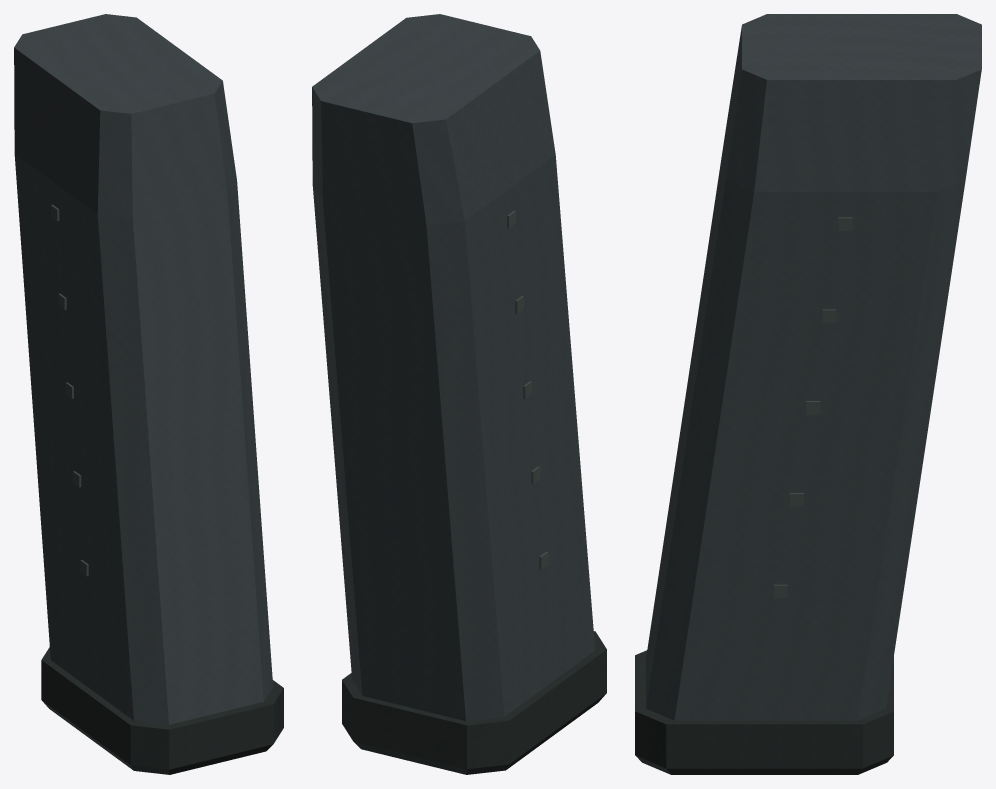
The model's file is grach_18.glb.
The picture shows the model from 3 angles, left to right: view 1: azimuth 30°, elevation 25°; view 2: azimuth 150°, elevation 25°; view 3: azimuth 270°, elevation 25°; orthographic projection. The views are drawn at different scales.
Parts seen in each view (by area): view 1: grach_18_individual_shell, grach_18_individual_shell.001, grach_18_floorplate, grach_18_witness_inset; view 2: grach_18_individual_shell, grach_18_individual_shell.001, grach_18_floorplate, grach_18_witness_inset; view 3: grach_18_individual_shell, grach_18_individual_shell.001, grach_18_floorplate, grach_18_witness_inset.
Part boxes in pixels (box(x1,y1,x2,y2)): grach_18_individual_shell: box(14, 14, 272, 724); grach_18_individual_shell.001: box(22, 94, 273, 724); grach_18_floorplate: box(41, 647, 283, 774); grach_18_witness_inset: box(51, 204, 88, 576); grach_18_individual_shell: box(312, 14, 595, 721); grach_18_individual_shell.001: box(321, 101, 594, 720); grach_18_floorplate: box(342, 631, 606, 774); grach_18_witness_inset: box(507, 210, 548, 569); grach_18_individual_shell: box(646, 14, 981, 720); grach_18_individual_shell.001: box(648, 28, 948, 720); grach_18_floorplate: box(635, 650, 893, 774); grach_18_witness_inset: box(774, 217, 852, 598).
Bounding box in the file's own units: 0.0561 × 0.219 × 0.0998.
3 materials, 2 textured.
